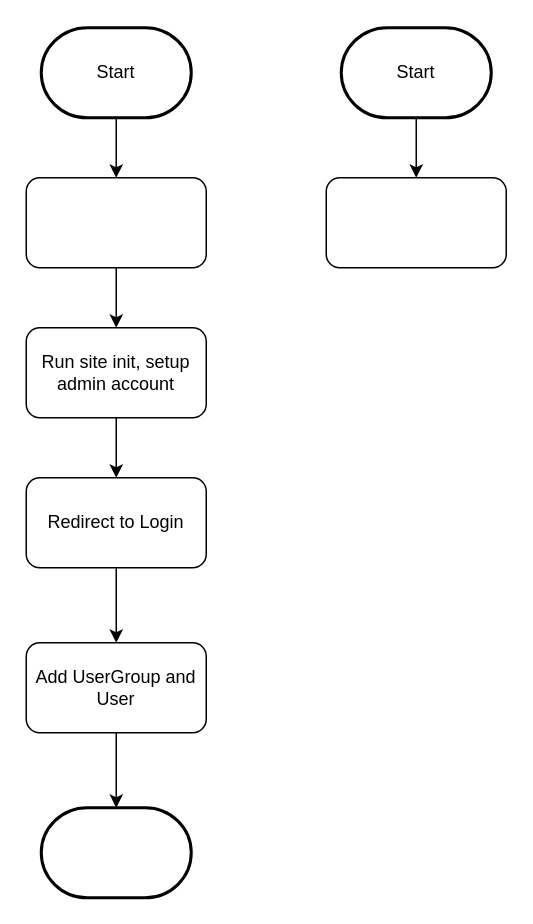
Image size: 533x924. Some labels were removed from this diagram. Each missing label, with the box of its shape:
Admin start the docker stack: (25, 176, 206, 268)
End: (39, 806, 192, 898)
Setup Account by invitation link: (325, 176, 506, 268)
